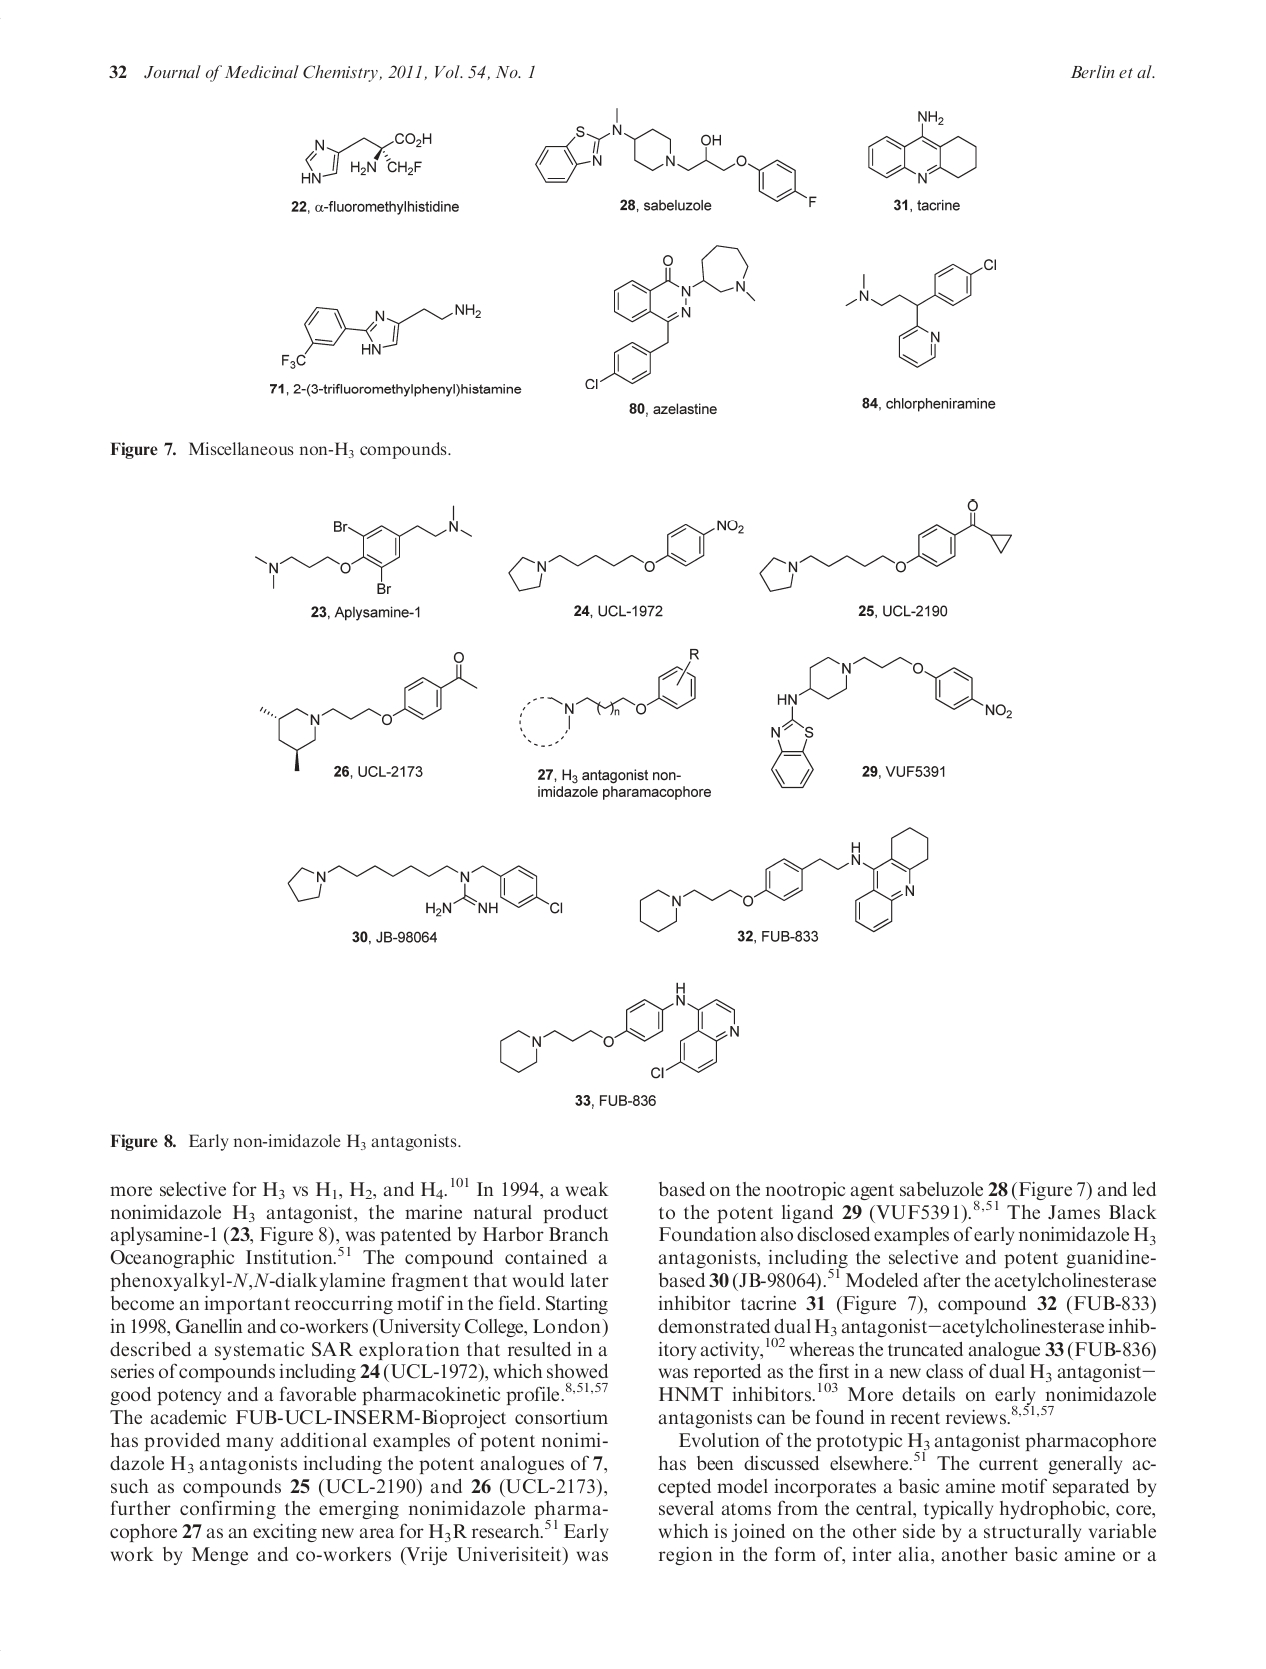exist_molecular: (636, 825, 934, 948), (767, 652, 1019, 793), (532, 106, 819, 209), (257, 650, 480, 773), (582, 243, 761, 391), (758, 497, 1015, 594), (496, 980, 742, 1081), (251, 501, 475, 597), (515, 645, 706, 751), (281, 858, 569, 922), (507, 517, 747, 593), (840, 255, 997, 370), (281, 301, 481, 370), (864, 106, 981, 186), (297, 129, 434, 188)
